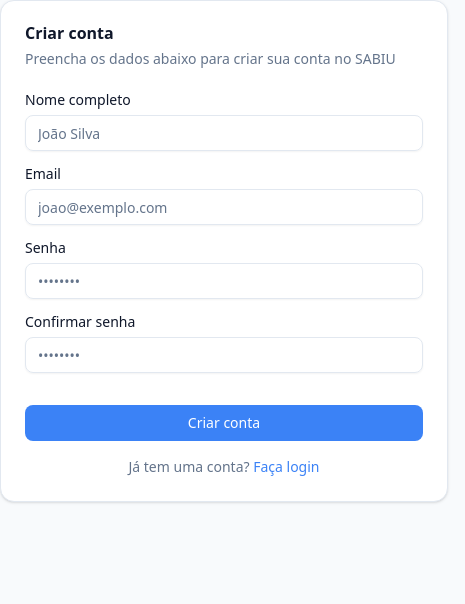
SignUpForm › deve validar se as senhas coincidem
Type "Password123" into the password field labelled "Senha". click: (224, 281)
box: [25,263,423,299]
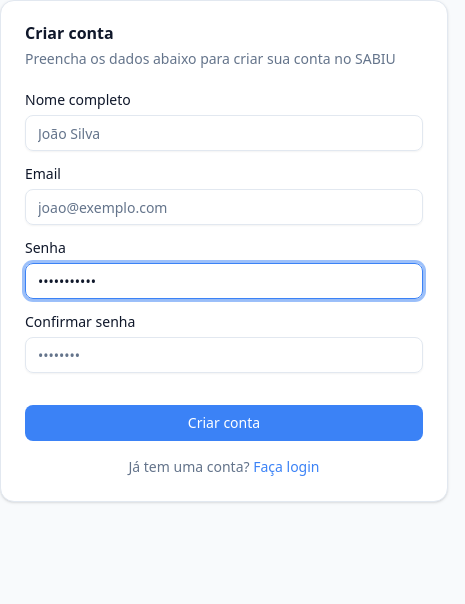
Type "DifferentPassword123" into the password field labelled "Confirmar senha". click: (224, 355)
box: [25,337,423,373]
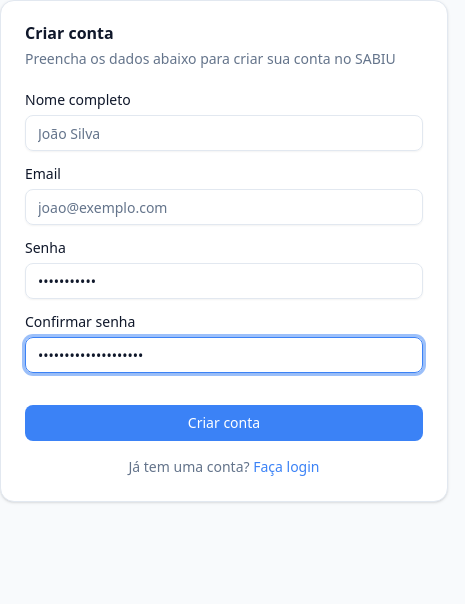
Click the button "Criar conta". click: (224, 423)
box: [25,405,423,441]
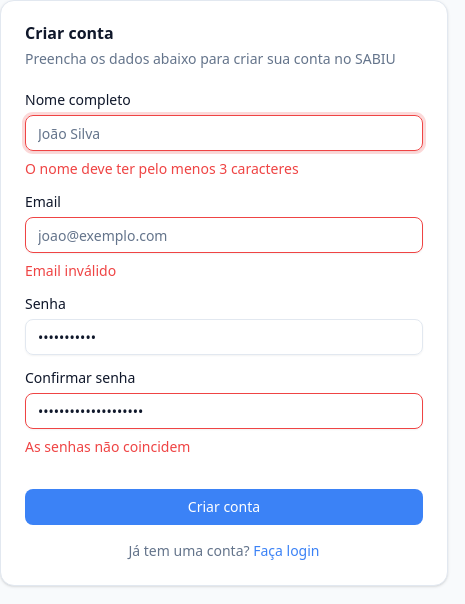
Check: the text "As senhas não coincidem" is shown, box [25,437,190,456]
